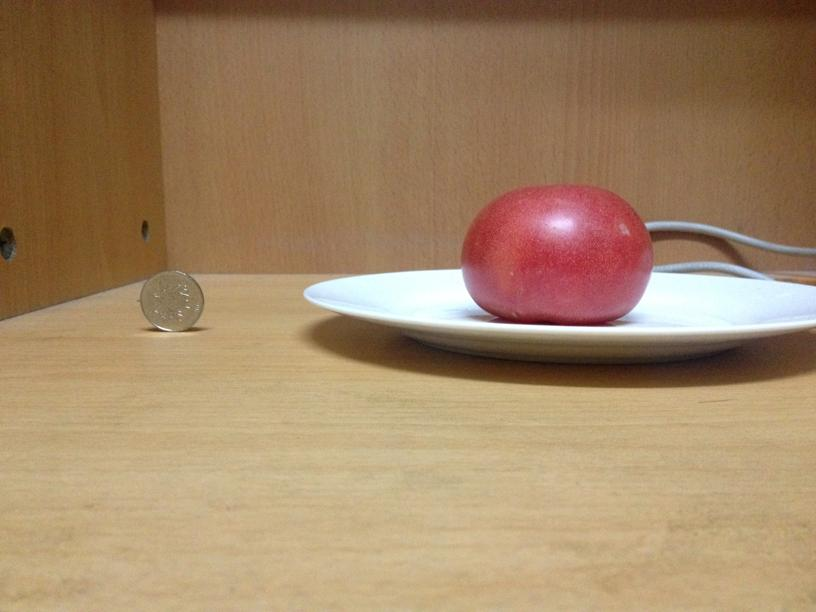coin: (134, 270, 204, 333)
tomato: (456, 187, 658, 323)
